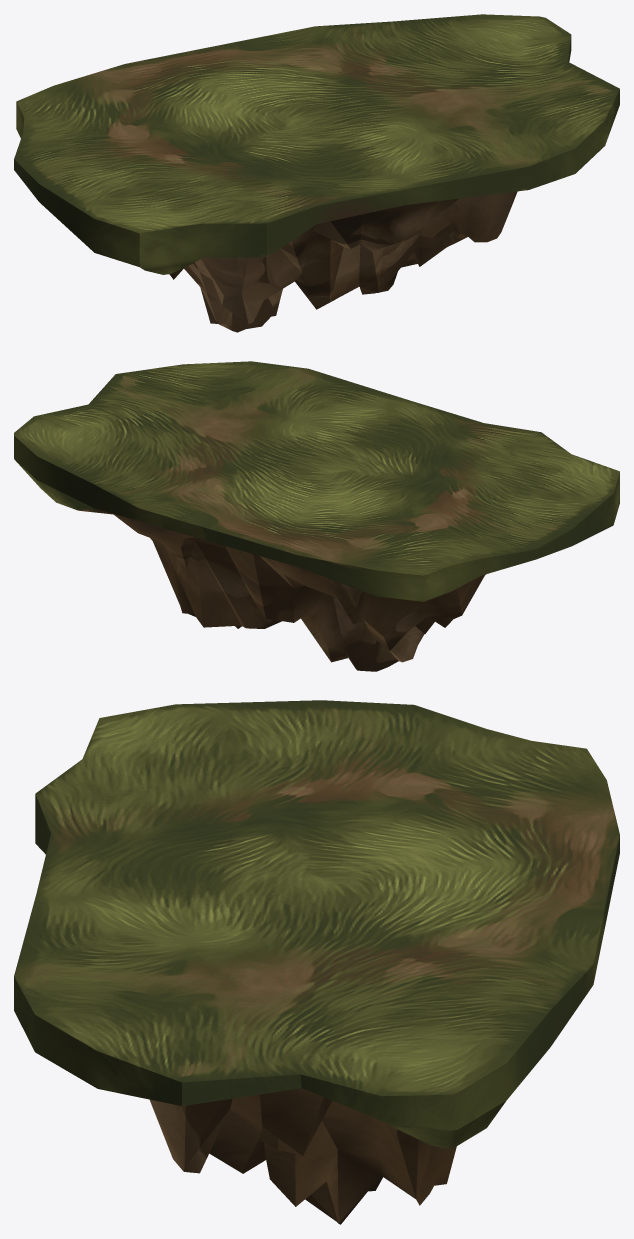
The model's file is wyspa_duza_p.obj.
The picture shows the model from 3 angles, top to bottom: view 1: azimuth 30°, elevation 25°; view 2: azimuth 150°, elevation 25°; view 3: azimuth 270°, elevation 25°; orthographic projection. The views are drawn at different scales.
Visible parts, largest first — view 1: Landscape.002; view 2: Landscape.002; view 3: Landscape.002.
Boxes of the visible parts, left/top/right/bottom form: Landscape.002: left=14, top=14, right=619, bottom=332; Landscape.002: left=14, top=361, right=619, bottom=671; Landscape.002: left=14, top=700, right=619, bottom=1224.
Bounding box in the file's own units: 132 × 45.92 × 85.49.
Materials: 1 (1 with a texture image).
